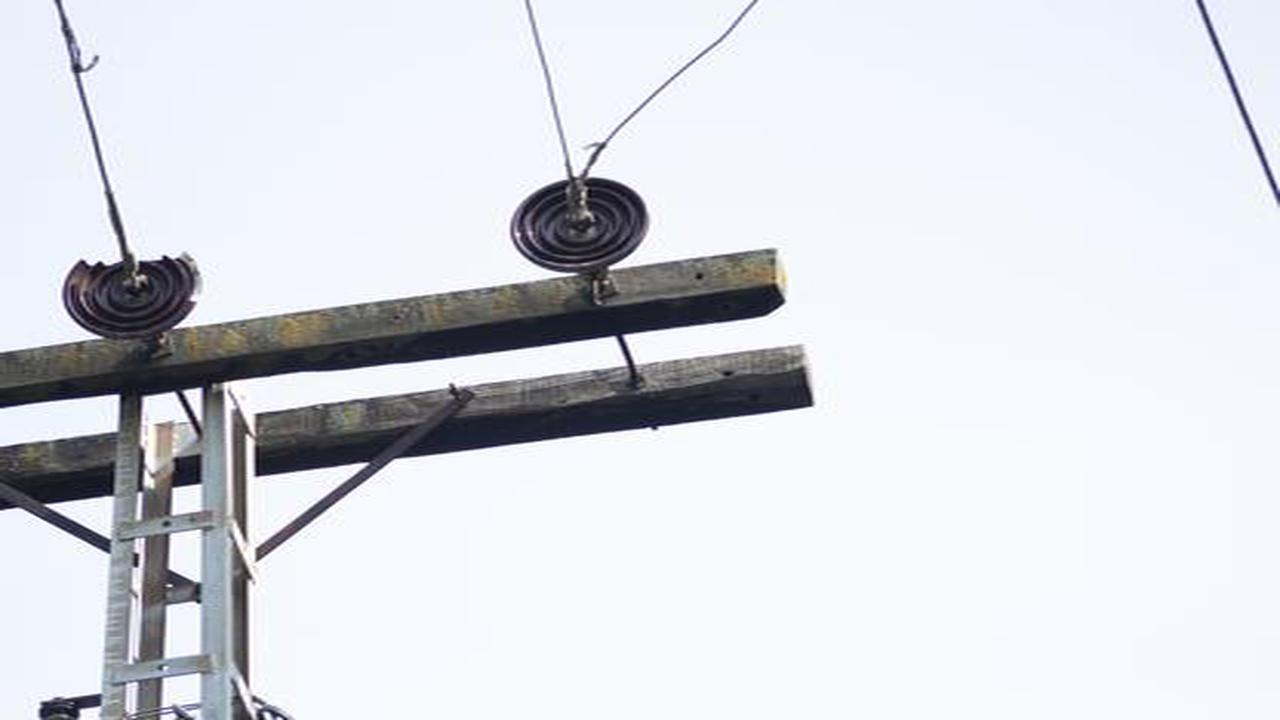defect_disc: (60, 247, 206, 329)
insulator_disc: (508, 174, 647, 271)
